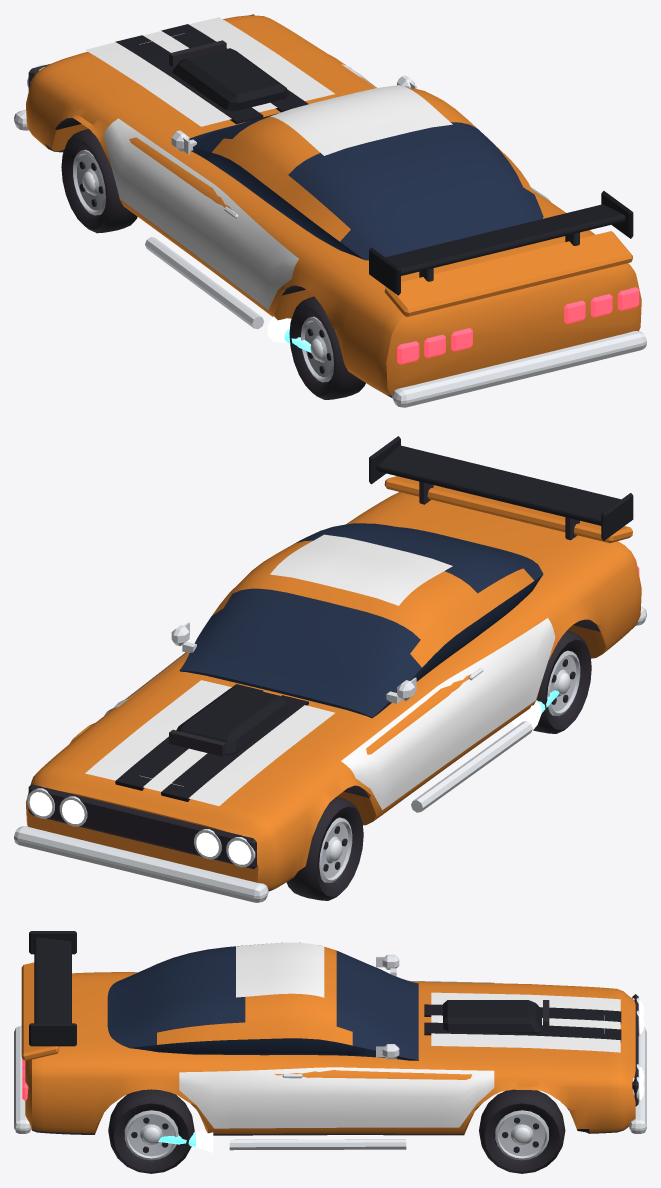
Rendered from car_muscle.glb.
3 renders of one model, top to bottom at view 1: azimuth 30°, elevation 25°; view 2: azimuth 150°, elevation 25°; view 3: azimuth 270°, elevation 25°, orthographic. The views are drawn at different scales.
Parts seen in each view (by area): view 1: Body, Vinyl, Spoiler, WheelFL, WheelRL, NitroFlame; view 2: Body, Vinyl, Spoiler, WheelFL, WheelRL; view 3: Body, Vinyl, WheelFR, WheelRR, Spoiler, NitroFlame.
Part boxes in pixels (x1,y1,x2,y2): Body: (14,14,646,407); Vinyl: (85,17,550,309); Spoiler: (369,191,633,295); WheelFL: (61,129,137,233); WheelRL: (289,296,365,399); NitroFlame: (267,316,325,359); Body: (14,476,646,902); Vinyl: (85,534,555,809); Spoiler: (369,436,633,540); WheelFL: (286,796,363,900); WheelRL: (533,630,591,733); Body: (14,942,646,1150); Vinyl: (179,942,620,1128); WheelFR: (479,1089,565,1173); WheelRR: (108,1089,194,1173); Spoiler: (29,931,76,1046); NitroFlame: (141,1129,213,1152).
Size of the model in its own units: 2.09 by 1.4 by 5.02.
